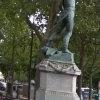Statue: (28, 6, 96, 65)
